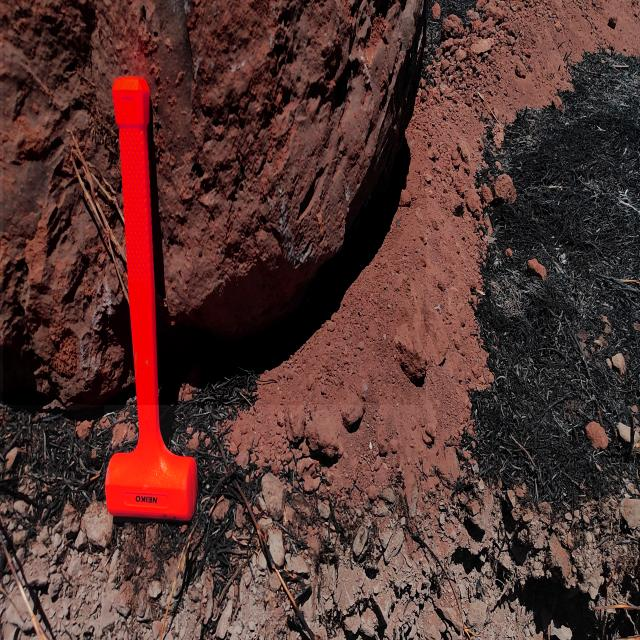Orange_hammer: (104, 74, 198, 522)
rock: (3, 0, 426, 405)
